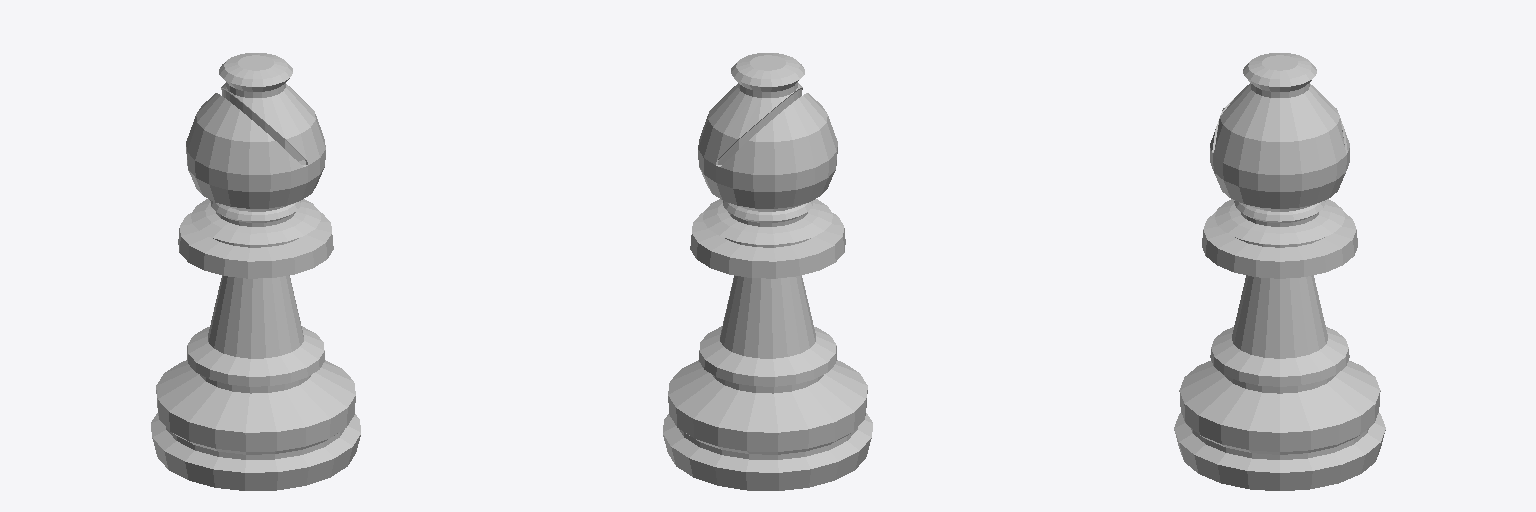
Rendered from blackBishop.obj.
The picture shows the model from 3 angles: view 1: azimuth 30°, elevation 25°; view 2: azimuth 150°, elevation 25°; view 3: azimuth 270°, elevation 25°; orthographic projection.
Parts seen in each view (by area): view 1: pCylinder3; view 2: pCylinder3; view 3: pCylinder3.
Part boxes in pixels (x1,y1,x2,y2): pCylinder3: (151, 53, 360, 490); pCylinder3: (663, 53, 872, 490); pCylinder3: (1174, 53, 1385, 490).
Size of the model in its own units: 0.9482 by 1.9 by 0.9482.